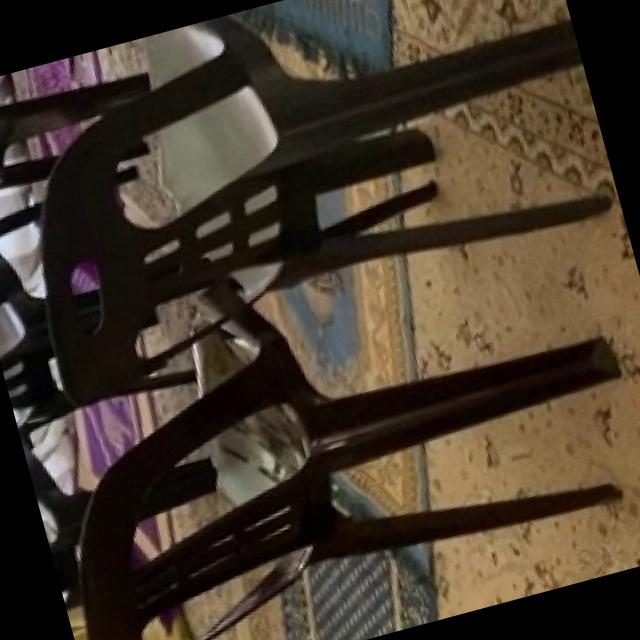Chair: (0, 0, 634, 417), (10, 223, 640, 640)
